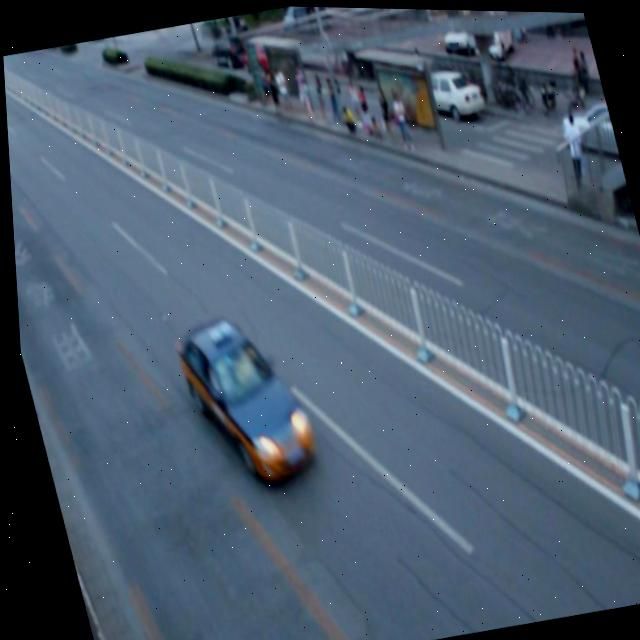car: (165, 303, 320, 501)
